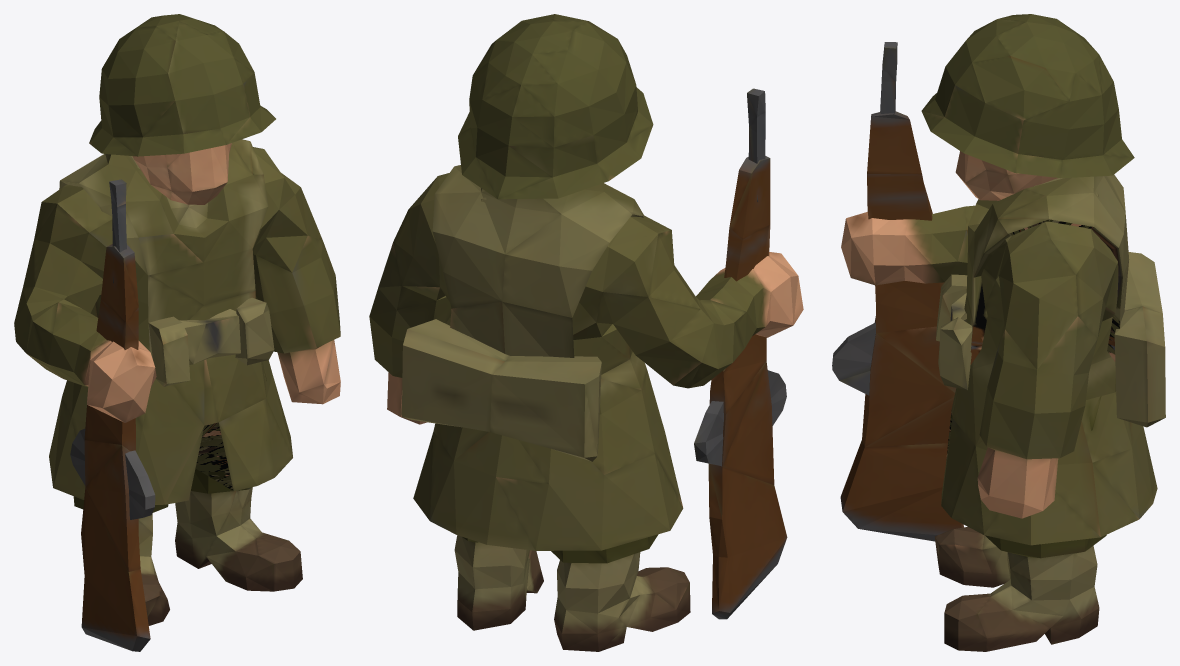
Rendered from bulge_us_inf_1.glb.
3 renders of one model, left to right at view 1: azimuth 30°, elevation 25°; view 2: azimuth 150°, elevation 25°; view 3: azimuth 270°, elevation 25°, orthographic. The views are drawn at different scales.
Visible parts, largest first — view 1: geometry_0; view 2: geometry_0; view 3: geometry_0.
Part boxes in pixels (<box>): geometry_0: <box>14,14,340,651</box>; geometry_0: <box>369,14,803,651</box>; geometry_0: <box>832,14,1165,651</box>.
Bounding box in the file's own units: 0.1953 × 0.324 × 0.1678.
Materials: 1 (1 with a texture image).
